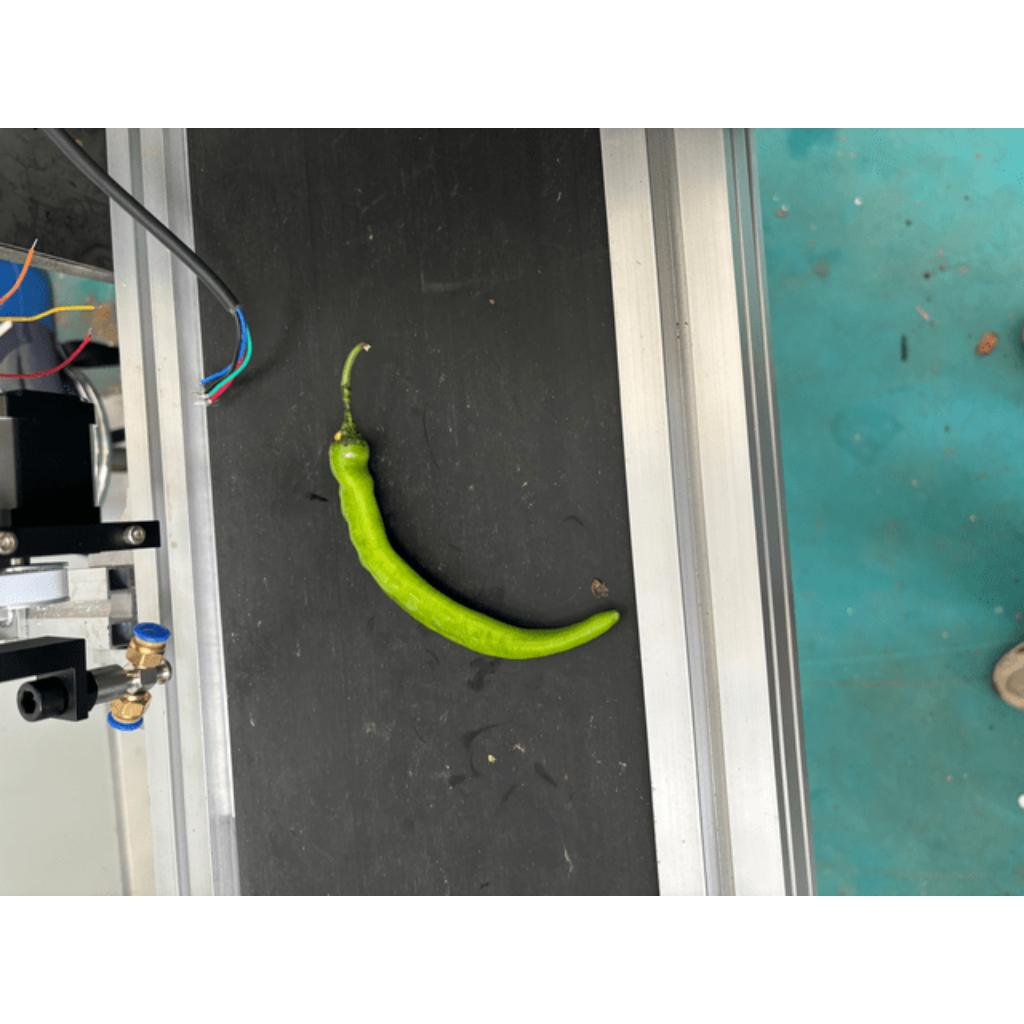chili: (325, 426, 624, 660)
